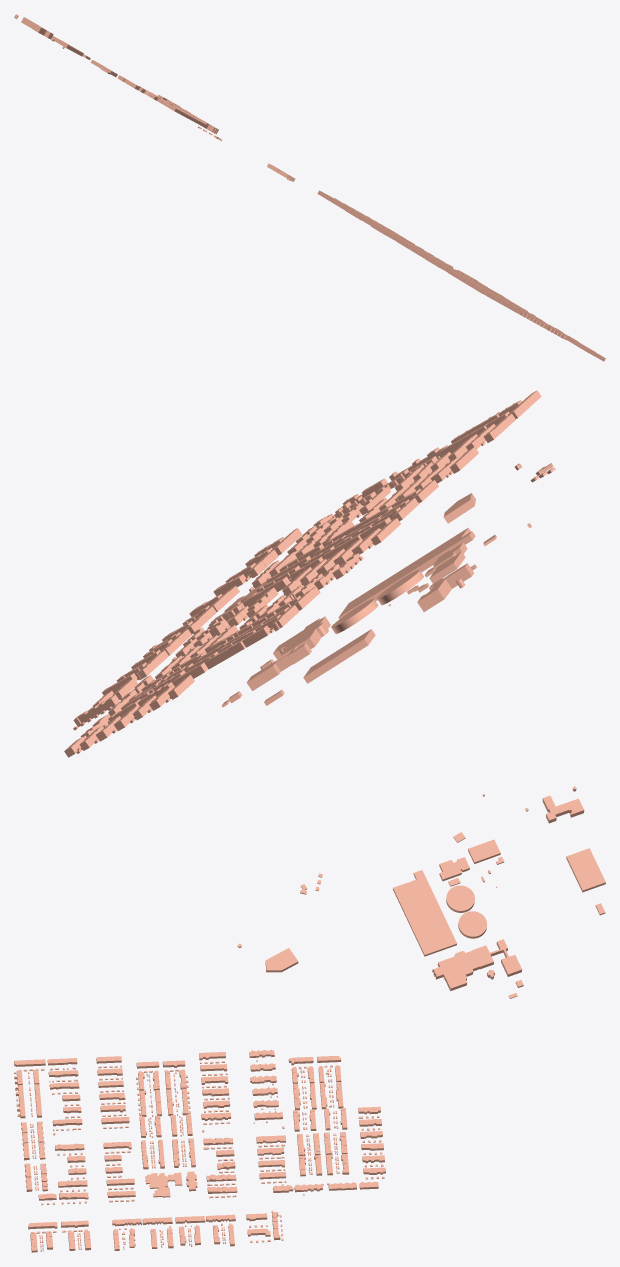
3 views of the same model, one above another, from view 1: azimuth 30°, elevation 25°; view 2: azimuth 150°, elevation 25°; view 3: azimuth 270°, elevation 25° (orthographic). The views are drawn at different scales.
Bounding box in the file's own units: 829 × 577 × 1102.
